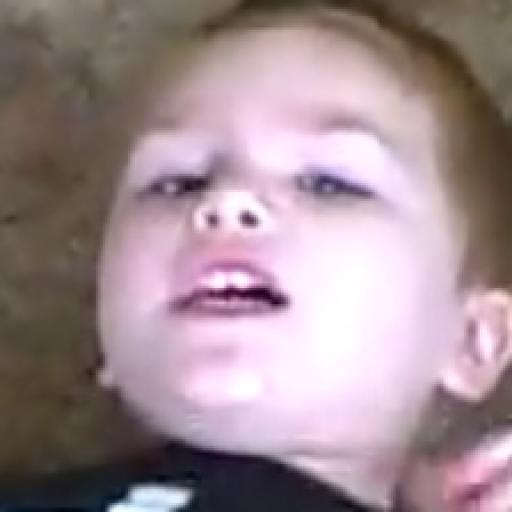Autism: (57, 16, 512, 457)
